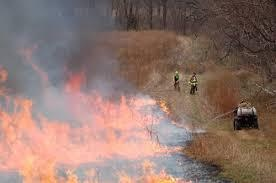fire: (0, 70, 193, 182)
